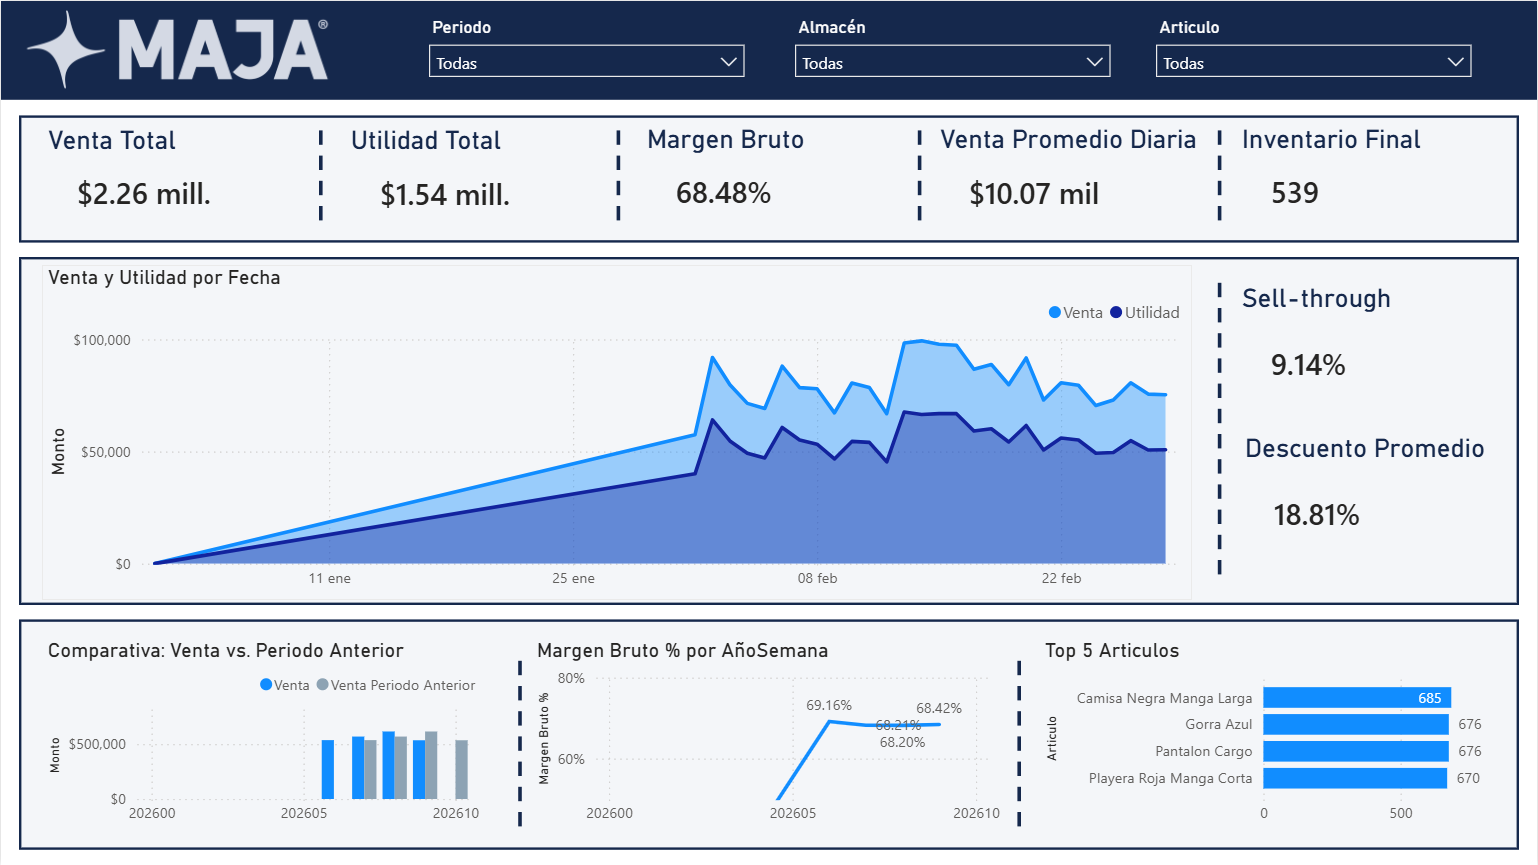

This screenshot's page, from the dashboard's own definition file:
{"tool":"powerbi","page":{"name":"Página 1","canvas":[1280,720],"ordinal":0},"visuals":[{"type":"slicer","fields":{"Values":["dim_almacenes.nombre"]},"box":[651.7,8.3,282.5,83.3],"z":0},{"type":"slicer","fields":{"Values":["dim_articulos.nombre"]},"box":[952.5,8.3,282.5,83.3],"z":1000},{"type":"cardVisual","title":"Venta Total","fields":{"Data":["gold_indicadores_negocio.venta_total"]},"box":[34.2,103.3,211.7,86.7],"z":2000},{"type":"cardVisual","title":"Sell-through","fields":{"Data":["gold_indicadores_negocio.porc_sell_through"]},"box":[1029.2,235,229.2,107.5],"z":3000},{"type":"slicer","fields":{"Values":["Calendario.SemanaLabel"]},"box":[346.7,8.3,282.5,83.3],"z":4000},{"type":"areaChart","fields":{"Category":["Calendario.Date.Variación.Jerarquía de fechas.Año"],"Y":["gold_indicadores_negocio.Venta Total","gold_indicadores_negocio.utilidad_total"]},"box":[34.2,220,958.3,279.2],"z":5000},{"type":"clusteredBarChart","title":"Top 5 Articulos","fields":{"Category":["dim_articulos.nombre"],"Y":["Sum(gold_indicadores_negocio.venta_diaria)"]},"box":[865,530.8,385.8,164.2],"z":6000},{"type":"clusteredColumnChart","title":"Comparativa: Venta vs. Periodo Anterior","fields":{"Category":["Calendario.AñoSemana"],"Y":["gold_indicadores_negocio.Venta Total","gold_indicadores_negocio.Venta Semana Anterior"]},"box":[34.2,530.8,370.8,164.2],"z":7000},{"type":"cardVisual","title":"Utilidad Total","fields":{"Data":["gold_indicadores_negocio.utilidad_total"]},"box":[286.7,103.3,236.7,87.5],"z":8000},{"type":"cardVisual","title":"Margen Bruto","fields":{"Data":["gold_indicadores_negocio.Margen Bruto %"]},"box":[533.3,102.5,236.7,86.7],"z":9000},{"type":"cardVisual","title":"Venta Promedio Diaria","fields":{"Data":["gold_indicadores_negocio.ticket_promedio"]},"box":[777.5,102.5,235.8,87.5],"z":10000},{"type":"cardVisual","title":"Inventario Final","fields":{"Data":["gold_indicadores_negocio.Inventario Final"]},"box":[1029.2,102.5,213.3,86.7],"z":11000},{"type":"cardVisual","title":"Descuento Promedio","fields":{"Data":["gold_indicadores_negocio.porc_descuento_promedio"]},"box":[1031.7,360,229.2,107.5],"z":12000},{"type":"lineChart","fields":{"Category":["Calendario.AñoSemana"],"Y":["gold_indicadores_negocio.Margen Bruto %"]},"box":[441.7,530.8,395.8,164.2],"z":13000}]}

Visuals, with their boxes in screenshot pixels (x1, y1, x2, y2), scaled from the page's 1280x720 canvas onto the 1538x865 screenshot:
slicer - dim_almacenes.nombre: x1=783 y1=10 x2=1122 y2=110
slicer - dim_articulos.nombre: x1=1144 y1=10 x2=1484 y2=110
"Venta Total" cardVisual: x1=41 y1=124 x2=295 y2=228
"Sell-through" cardVisual: x1=1237 y1=282 x2=1512 y2=411
slicer - Calendario.SemanaLabel: x1=417 y1=10 x2=756 y2=110
areaChart - Calendario.Date.Variación.Jerarquía de fechas.Año x gold_indicadores_negocio.Venta Total: x1=41 y1=264 x2=1193 y2=600
"Top 5 Articulos" clusteredBarChart: x1=1039 y1=638 x2=1503 y2=835
"Comparativa: Venta vs. Periodo Anterior" clusteredColumnChart: x1=41 y1=638 x2=487 y2=835
"Utilidad Total" cardVisual: x1=344 y1=124 x2=629 y2=229
"Margen Bruto" cardVisual: x1=641 y1=123 x2=925 y2=227
"Venta Promedio Diaria" cardVisual: x1=934 y1=123 x2=1218 y2=228
"Inventario Final" cardVisual: x1=1237 y1=123 x2=1493 y2=227
"Descuento Promedio" cardVisual: x1=1240 y1=432 x2=1515 y2=562
lineChart - Calendario.AñoSemana x gold_indicadores_negocio.Margen Bruto %: x1=531 y1=638 x2=1006 y2=835
